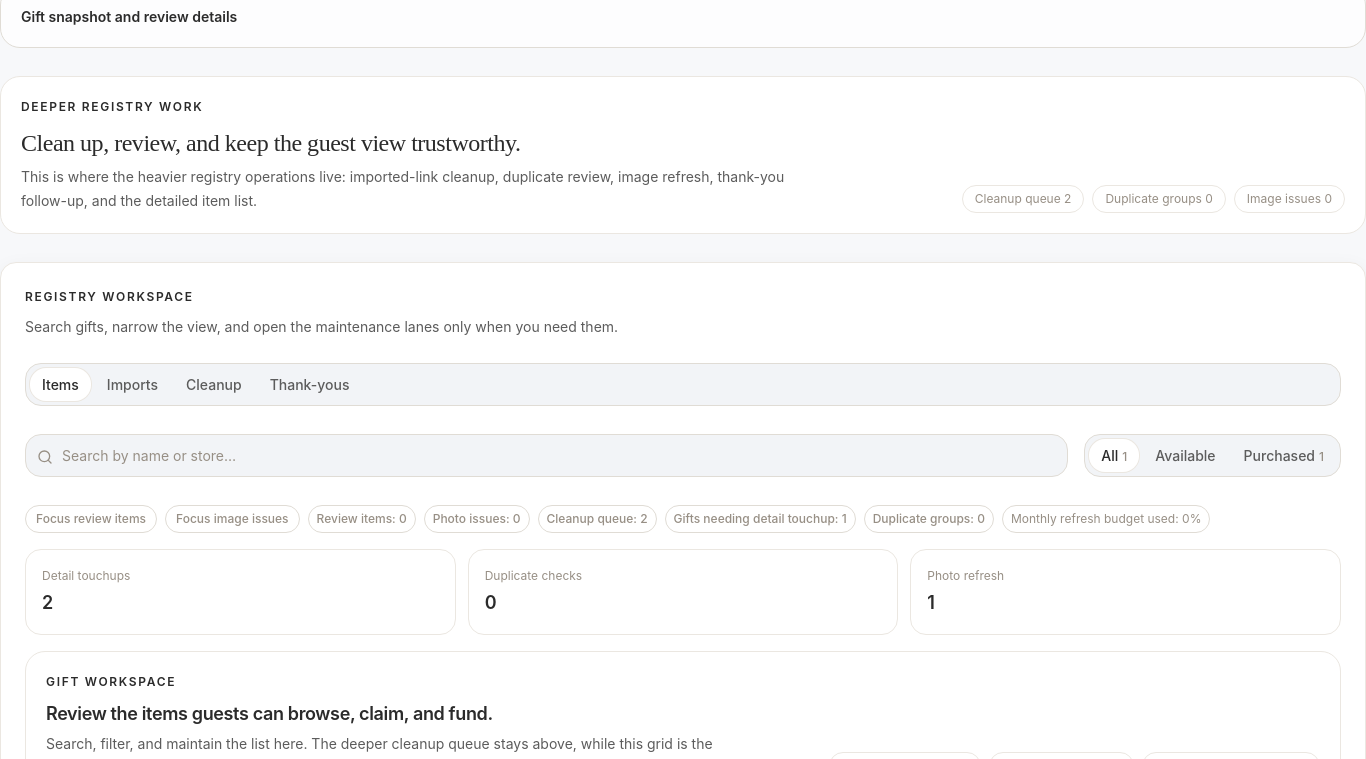
RegistryDashboardRouteContent › groups cleanup work by problem type instead of one flat queue
(page scrolled)
Click the button "Cleanup". click: [214, 384]
box: left=174, top=368, right=254, bottom=401
(page scrolled)
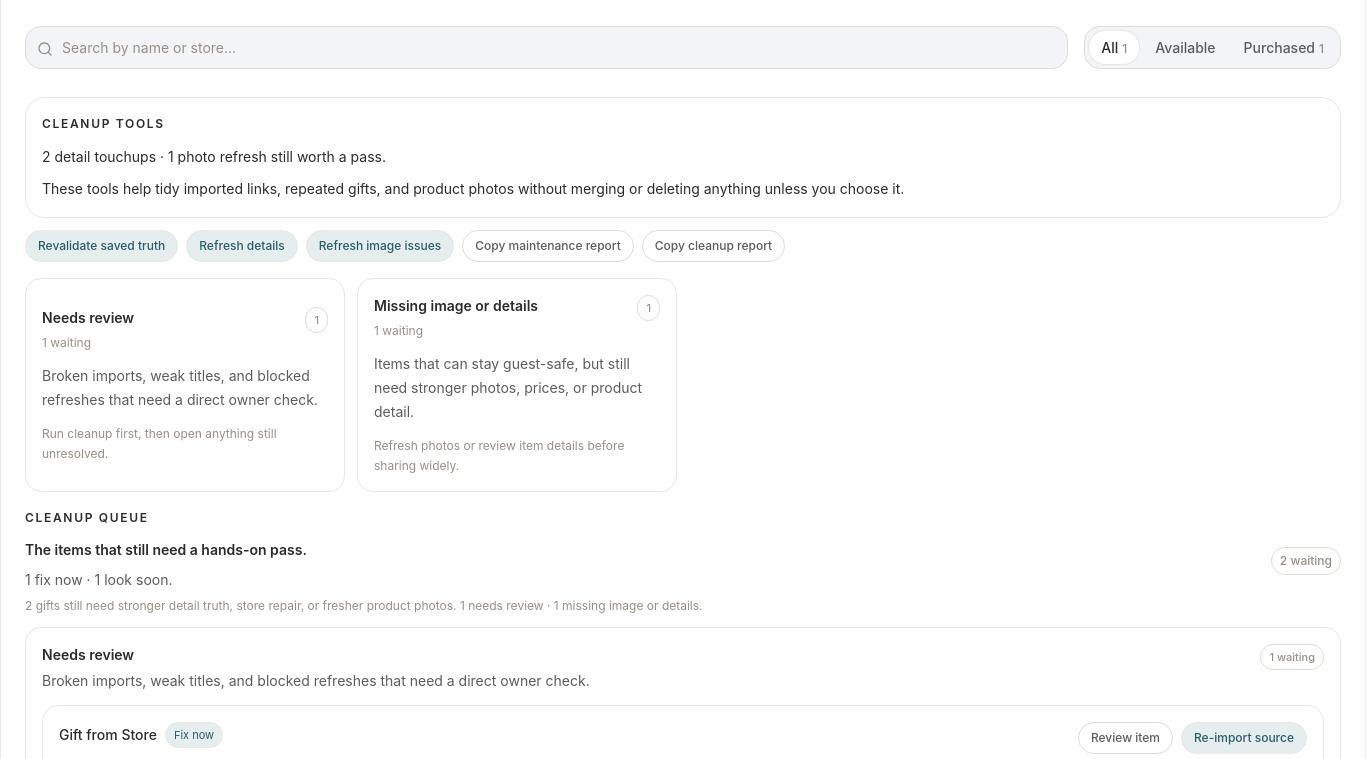
expect the 1st text "Needs review" is shown: met, box left=42, top=307, right=134, bottom=329
expect the text "Missing image or details" is shown: met, box left=374, top=295, right=538, bottom=317
expect the text "Run cleanup first, then open anything still unresolved." is shown: met, box left=42, top=426, right=277, bottom=461
Click the button "Missing image or details". click: [517, 385]
box: left=357, top=278, right=677, bottom=492
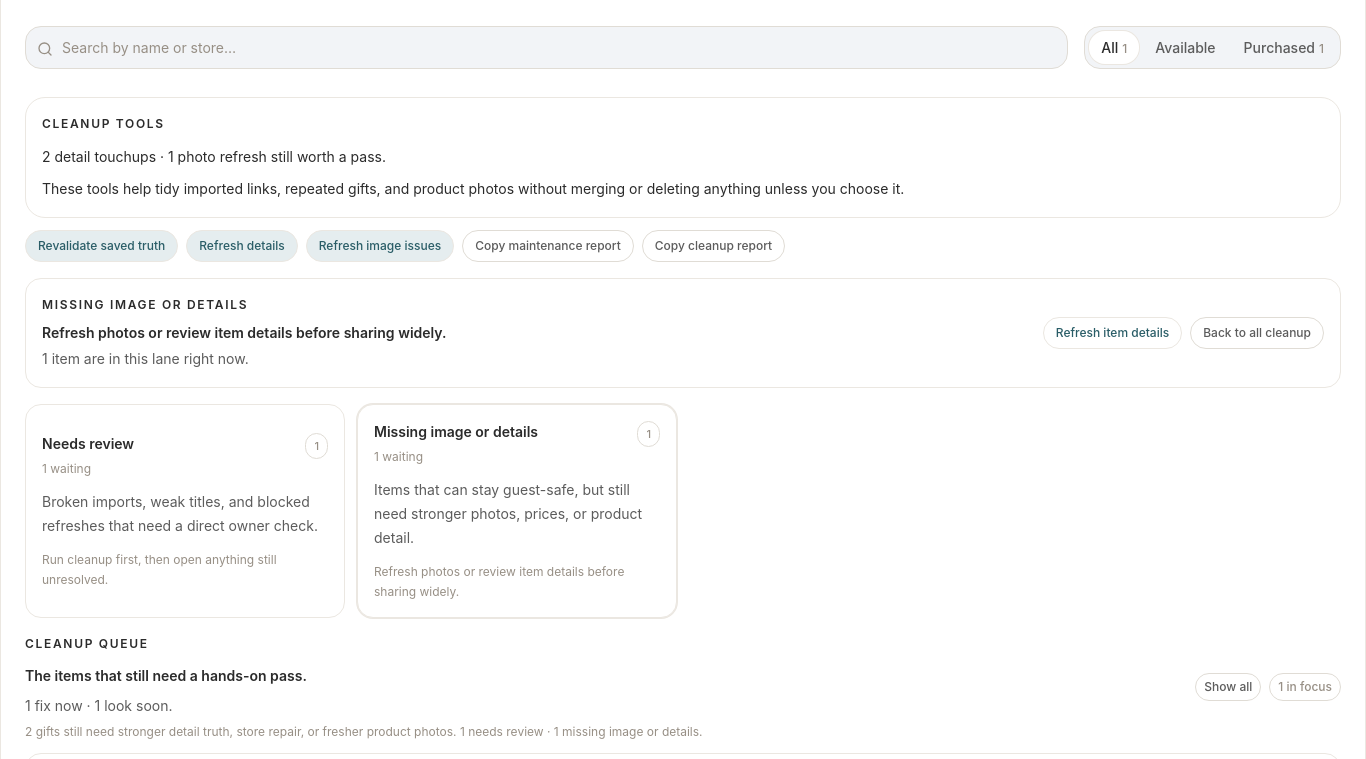
expect the button "Back to all cleanup" is shown: met, box left=1190, top=317, right=1324, bottom=349
expect the 1st text "Refresh photos or review item details before sharing widely." is shown: met, box left=42, top=322, right=446, bottom=344
expect the button "Refresh item details" is shown: met, box left=1043, top=317, right=1182, bottom=349
